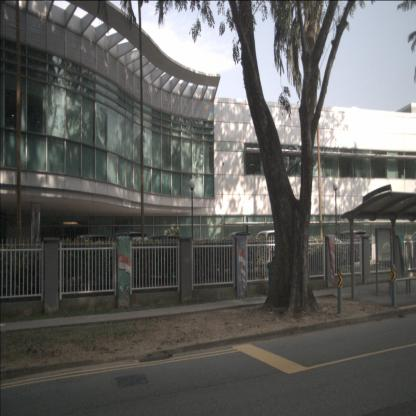vehicle-car: (329, 230, 372, 267)
